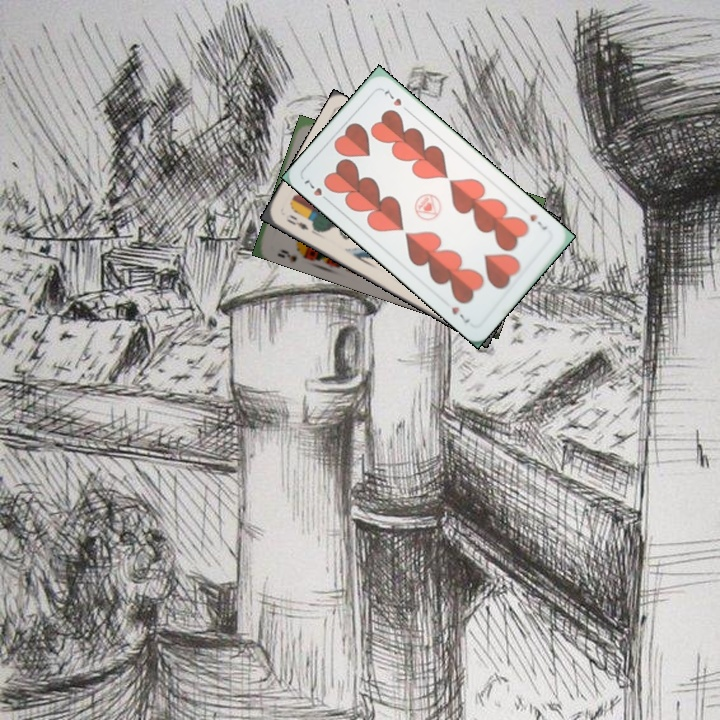EO: (282, 210, 311, 233)
H7: (300, 175, 333, 205), (526, 210, 550, 232)
S9: (274, 245, 309, 265)
